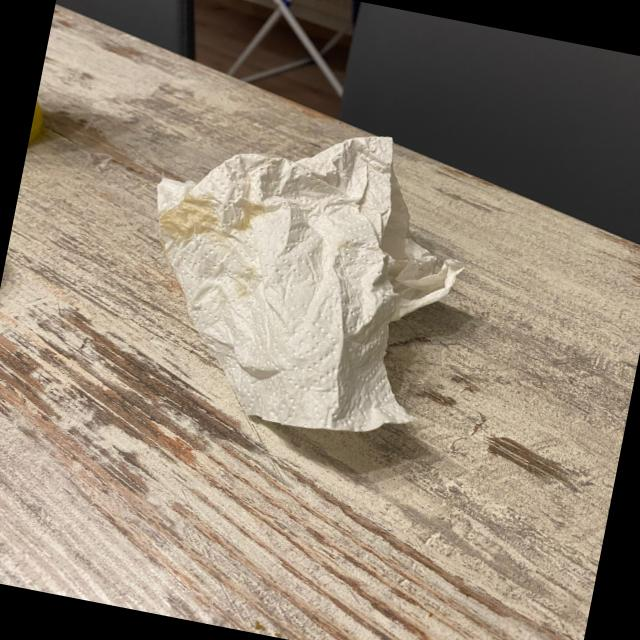organic waste: (112, 92, 486, 456)
